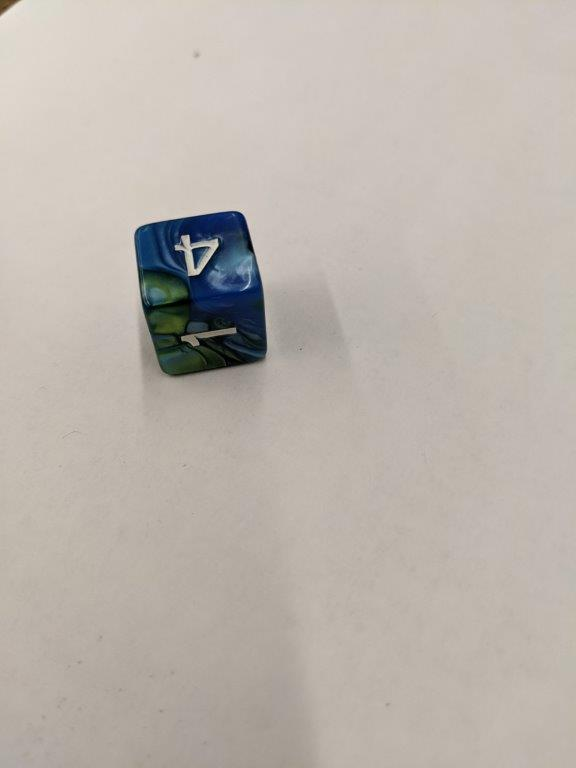d6-4: (132, 209, 271, 379)
